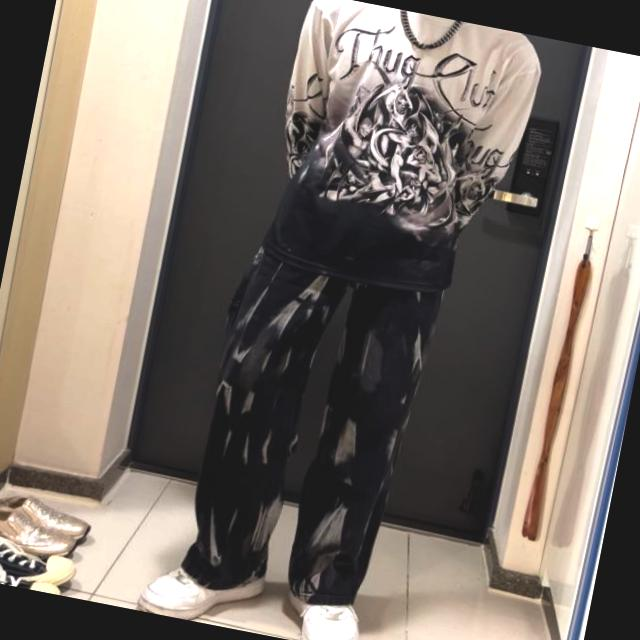denimpants: (173, 235, 444, 621)
longsleeve: (257, 0, 546, 302)
